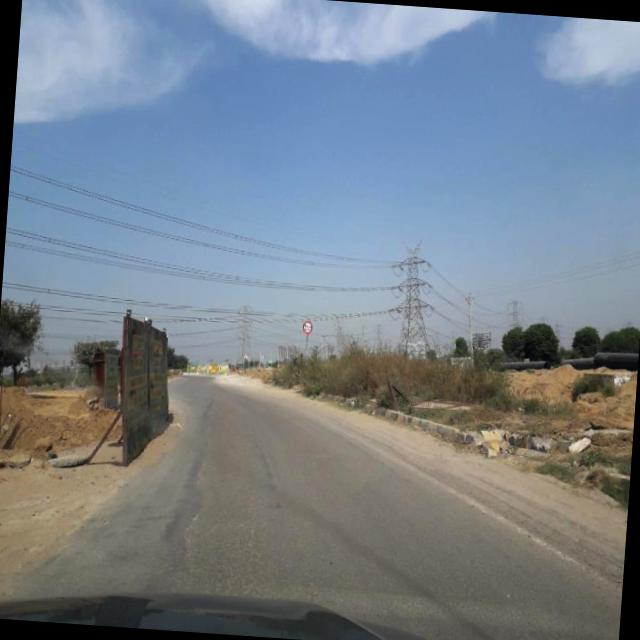crack: (171, 506, 267, 596)
